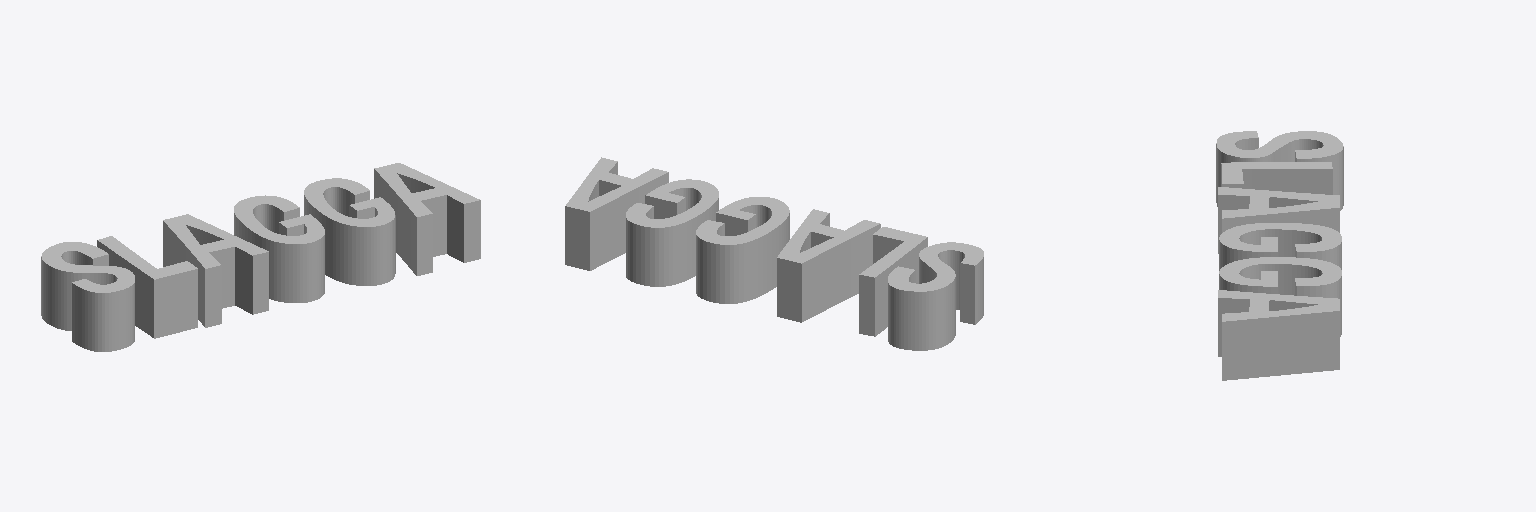
Rendered from name_slagga.obj.
3 renders of one model, left to right at view 1: azimuth 30°, elevation 25°; view 2: azimuth 150°, elevation 25°; view 3: azimuth 270°, elevation 25°, orthographic.
Parts seen in each view (by area): view 1: Text; view 2: Text; view 3: Text.
Boxes of the visible parts, box(x1,y1,x2,y2) form: Text: box(41, 163, 480, 351); Text: box(565, 157, 983, 350); Text: box(1216, 131, 1343, 380).
Bounding box in the file's own units: 2.49 × 0.36 × 0.7013.